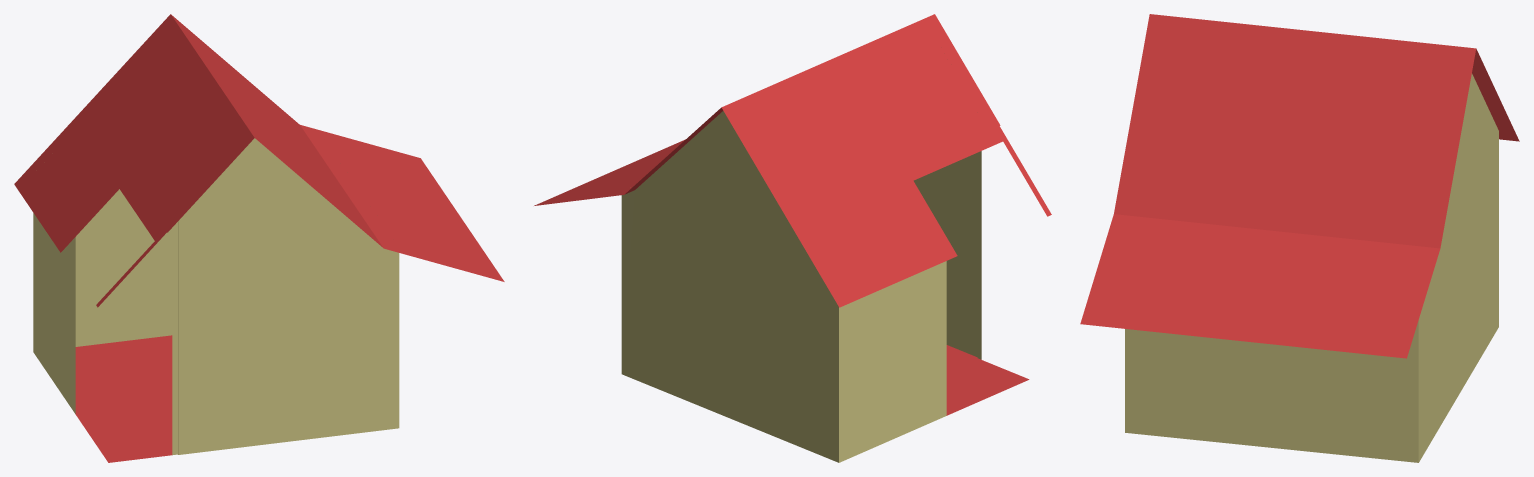
3 renders of one model, left to right at view 1: azimuth 30°, elevation 25°; view 2: azimuth 150°, elevation 25°; view 3: azimuth 270°, elevation 25°, orthographic. The views are drawn at different scales.
Bounding box in the file's own units: 15.56 × 12.81 × 11.16.
